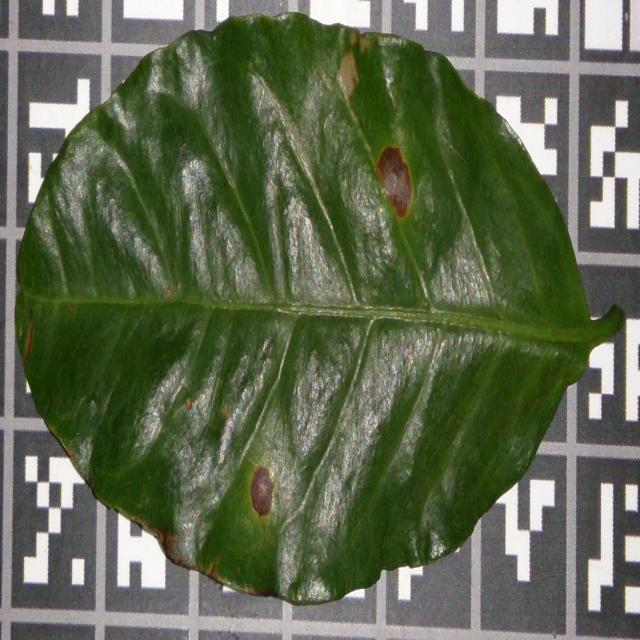Enfermedad-Mancha-de-hierro: (13, 16, 627, 609)
